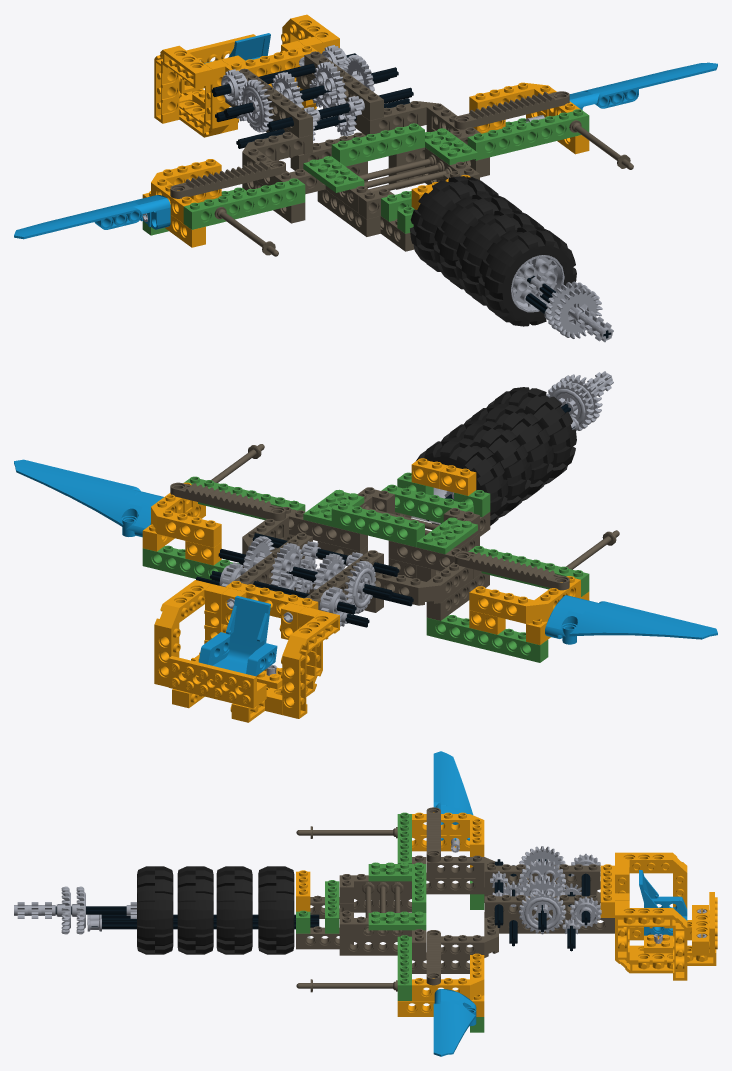
3 renders of one model, top to bottom at view 1: azimuth 30°, elevation 25°; view 2: azimuth 150°, elevation 25°; view 3: azimuth 270°, elevation 25°, orthographic. The views are drawn at different scales.
Visible parts, largest first — view 1: Inner-Node-plane_dot_io-19, Inner-Node-plane_dot_io-71, Inner-Node-plane_dot_io-95, Inner-Node-plane_dot_io-70, Inner-Node-plane_dot_io-94, Inner-Node-plane_dot_io-85, Inner-Node-plane_dot_io-20, Inner-Node-plane_dot_io-48, Inner-Node-plane_dot_io-73, Inner-Node-plane_dot_io-84, Inner-Node-plane_dot_io-65, Inner-Node-plane_dot_io-1 (+38 smaller); view 2: Inner-Node-plane_dot_io-85, Inner-Node-plane_dot_io-84, Inner-Node-plane_dot_io-5, Inner-Node-plane_dot_io-95, Inner-Node-plane_dot_io-48, Inner-Node-plane_dot_io-20, Inner-Node-plane_dot_io-19, Inner-Node-plane_dot_io-102, Inner-Node-plane_dot_io-94, Inner-Node-plane_dot_io-78, Inner-Node-plane_dot_io-2, Inner-Node-plane_dot_io-3 (+36 smaller); view 3: Inner-Node-plane_dot_io-20, Inner-Node-plane_dot_io-94, Inner-Node-plane_dot_io-19, Inner-Node-plane_dot_io-95, Inner-Node-plane_dot_io-84, Inner-Node-plane_dot_io-3, Inner-Node-plane_dot_io-85, Inner-Node-plane_dot_io-48, Inner-Node-plane_dot_io-0, Inner-Node-plane_dot_io-2, Inner-Node-plane_dot_io-47, Inner-Node-plane_dot_io-32 (+37 smaller).
Boxes of the visible parts, box(x1,y1,x2,y2) form: Inner-Node-plane_dot_io-19: box(478, 226, 576, 326); Inner-Node-plane_dot_io-71: box(183, 178, 305, 229); Inner-Node-plane_dot_io-95: box(410, 176, 498, 271); Inner-Node-plane_dot_io-70: box(467, 109, 589, 160); Inner-Node-plane_dot_io-94: box(455, 209, 544, 305); Inner-Node-plane_dot_io-85: box(14, 195, 170, 239); Inner-Node-plane_dot_io-20: box(433, 193, 521, 289); Inner-Node-plane_dot_io-48: box(154, 45, 212, 123); Inner-Node-plane_dot_io-73: box(331, 123, 424, 166); Inner-Node-plane_dot_io-84: box(569, 62, 717, 109); Inner-Node-plane_dot_io-65: box(361, 101, 465, 135); Inner-Node-plane_dot_io-1: box(179, 59, 229, 137); Inner-Node-plane_dot_io-85: box(545, 595, 717, 644); Inner-Node-plane_dot_io-84: box(14, 459, 163, 537); Inner-Node-plane_dot_io-5: box(198, 595, 277, 676); Inner-Node-plane_dot_io-95: box(416, 437, 508, 525); Inner-Node-plane_dot_io-48: box(281, 611, 339, 718); Inner-Node-plane_dot_io-20: box(441, 420, 531, 517); Inner-Node-plane_dot_io-19: box(486, 387, 576, 484); Inner-Node-plane_dot_io-102: box(168, 656, 256, 708); Inner-Node-plane_dot_io-94: box(464, 403, 553, 500); Inner-Node-plane_dot_io-78: box(426, 615, 548, 662); Inner-Node-plane_dot_io-2: box(469, 576, 580, 623); Inner-Node-plane_dot_io-3: box(154, 580, 211, 687); Inner-Node-plane_dot_io-20: box(216, 866, 252, 954); Inner-Node-plane_dot_io-94: box(177, 866, 213, 954); Inner-Node-plane_dot_io-19: box(137, 866, 173, 954); Inner-Node-plane_dot_io-95: box(258, 866, 294, 954); Inner-Node-plane_dot_io-84: box(433, 989, 476, 1056); Inner-Node-plane_dot_io-3: box(615, 908, 687, 980); Inner-Node-plane_dot_io-85: box(433, 751, 473, 840); Inner-Node-plane_dot_io-48: box(615, 852, 687, 908); Inner-Node-plane_dot_io-0: box(615, 900, 672, 973); Inner-Node-plane_dot_io-2: box(412, 812, 484, 856); Inner-Node-plane_dot_io-47: box(412, 953, 484, 1000); Inner-Node-plane_dot_io-32: box(484, 864, 600, 887).
Size of the model in its own units: 992 by 124 by 971.
